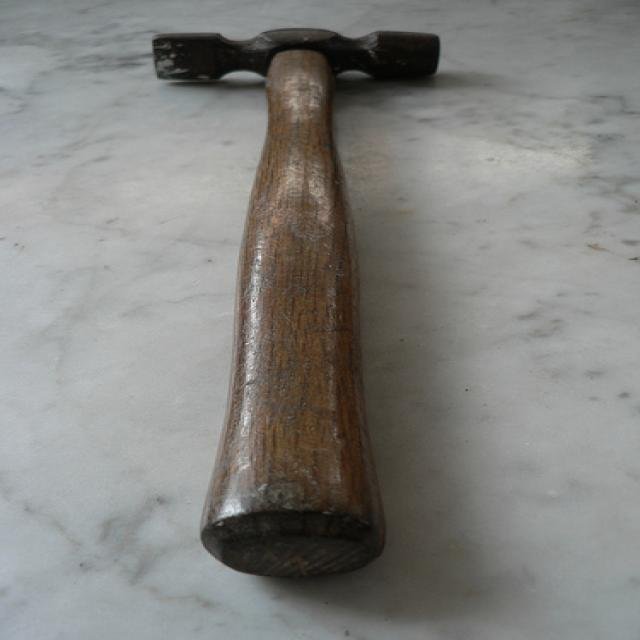hammer: (126, 5, 478, 496)
